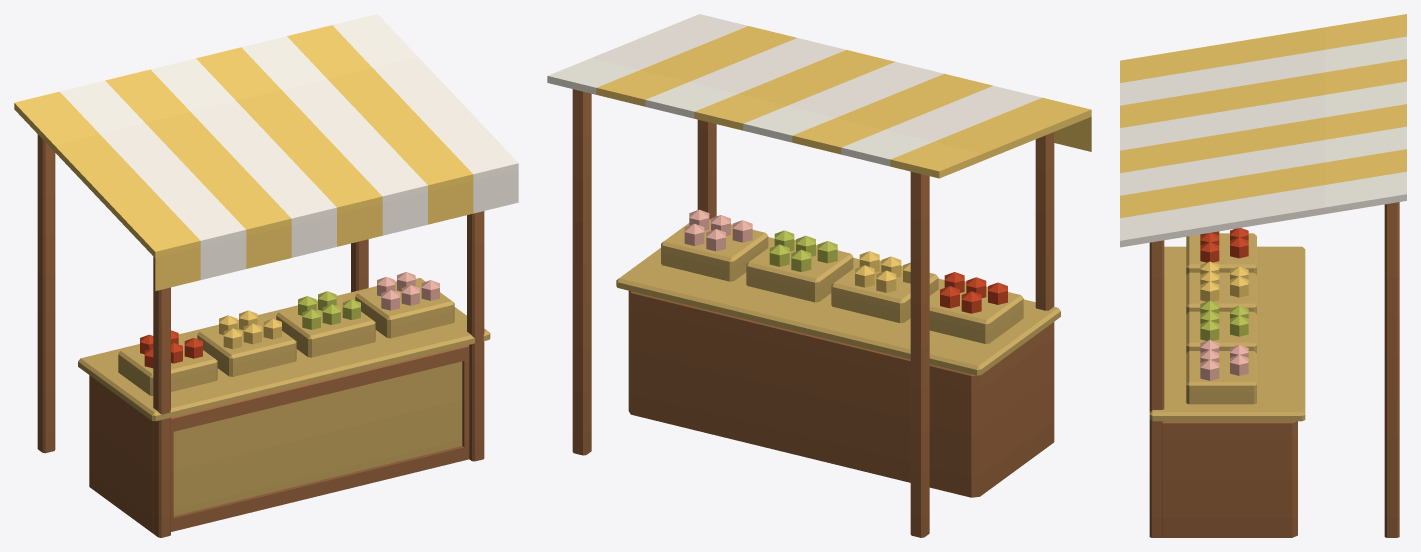
Rendered from market_stall_3.glb.
3 views of the same model, side by side, from view 1: azimuth 30°, elevation 25°; view 2: azimuth 150°, elevation 25°; view 3: azimuth 270°, elevation 25° (orthographic). The views are drawn at different scales.
Visible parts, largest first — view 1: market_stall_3; view 2: market_stall_3; view 3: market_stall_3.
Part boxes in pixels (x1,y1,x2,y2): market_stall_3: (14, 14, 518, 537); market_stall_3: (547, 14, 1091, 537); market_stall_3: (1120, 14, 1406, 537).
Bounding box in the file's own units: 2.9 × 2.65 × 1.95.
Materials: 1 (1 with a texture image).
